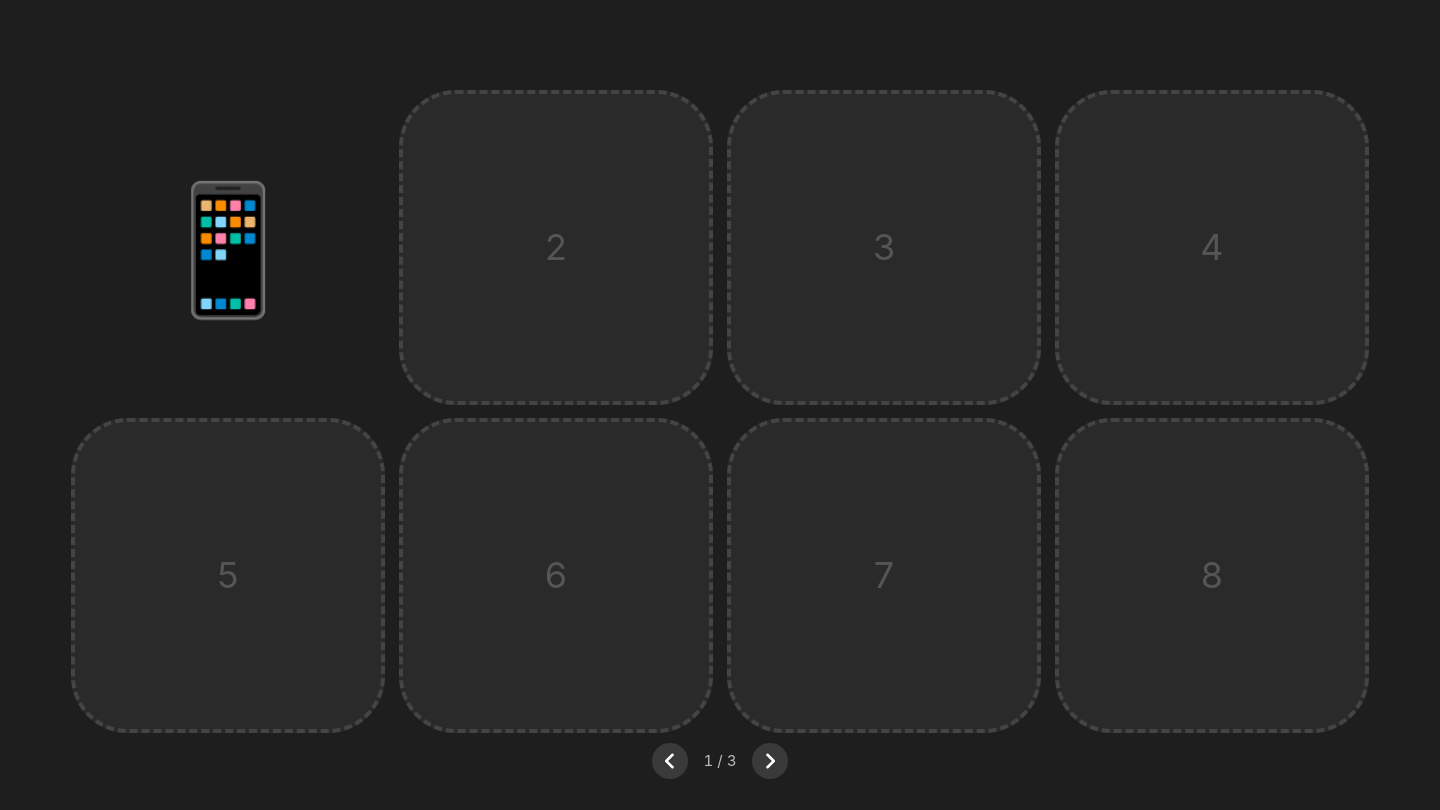
Scenario: App remove › shows the reason when unregistering fails
Check: the text "1 / 3" is shown, box 704,751 -> 736,770
Right-click the button named "Foo".
right_click(228, 247)  # box 149,171 -> 307,323
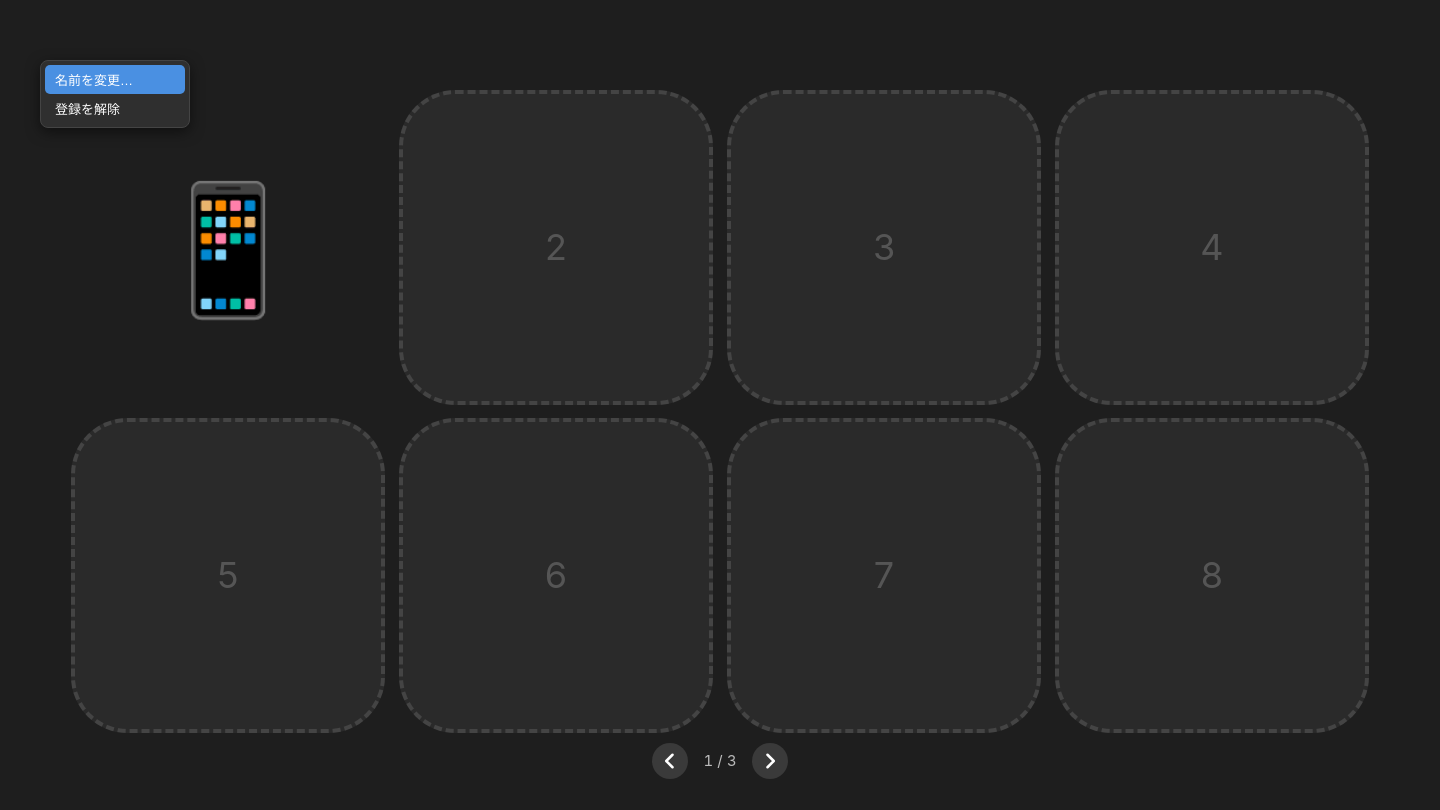
Click the menu item "登録を解除".
click(115, 108)  # box 45,94 -> 185,123
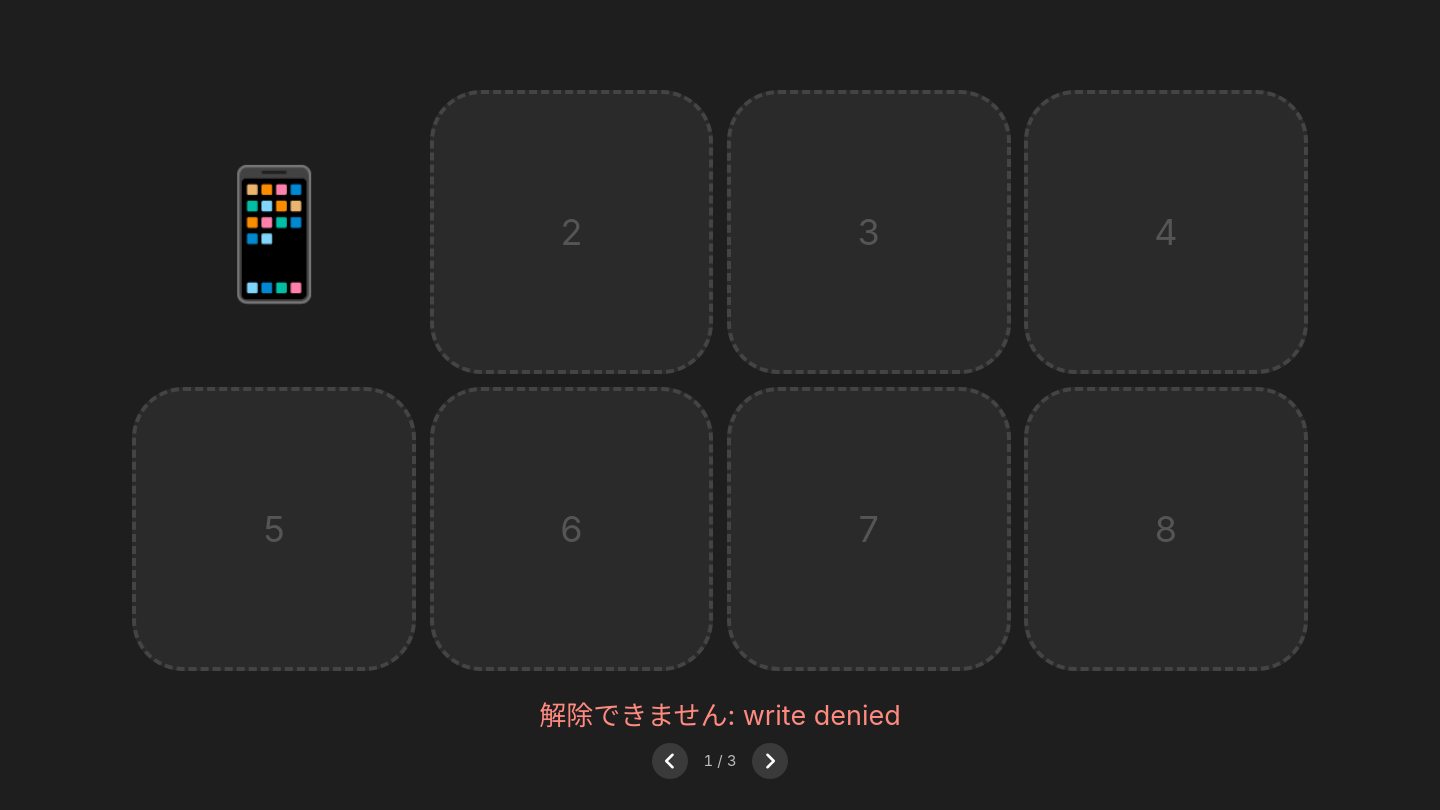
Check: the message reads "解除できません: write denied", box 539,698 -> 901,732
